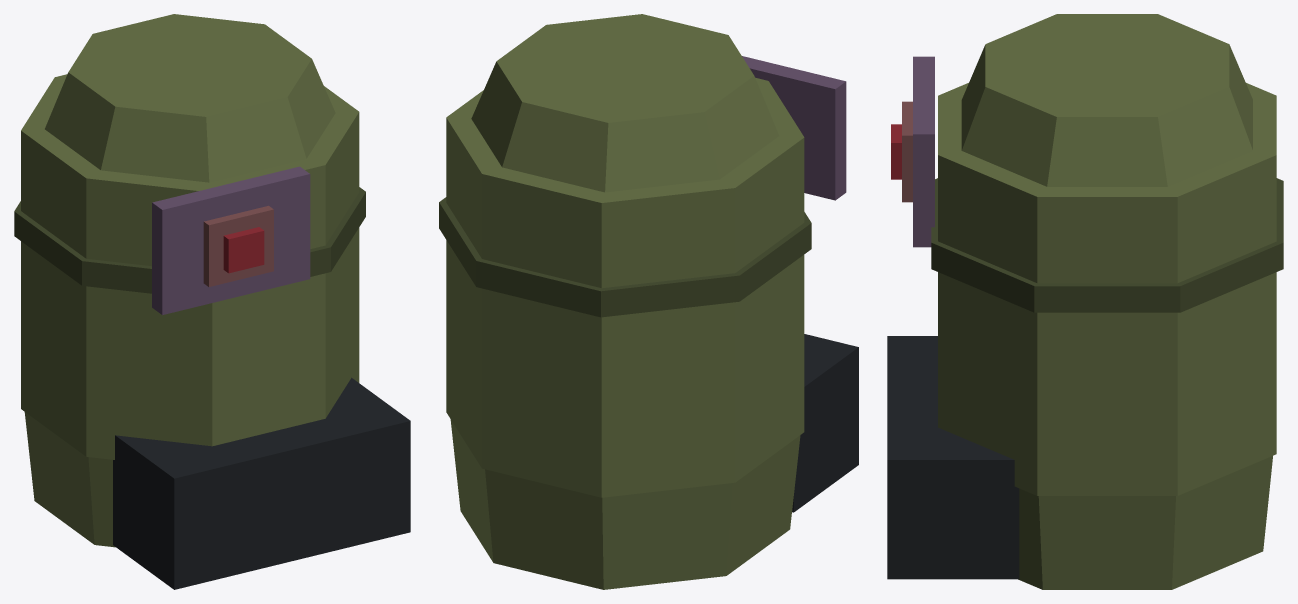
The model's file is inf_warden_upper_leg.fbx.
The picture shows the model from 3 angles, left to right: view 1: azimuth 30°, elevation 25°; view 2: azimuth 150°, elevation 25°; view 3: azimuth 270°, elevation 25°; orthographic projection. The views are drawn at different scales.
Parts seen in each view (by area): view 1: inf_warden_upper_leg; view 2: inf_warden_upper_leg; view 3: inf_warden_upper_leg.
Boxes of the visible parts, x1,y1,x2,y2 form: inf_warden_upper_leg: (14, 14, 410, 589); inf_warden_upper_leg: (439, 14, 858, 589); inf_warden_upper_leg: (887, 14, 1283, 589).
Bounding box in the file's own units: 96.08 × 138 × 108.
